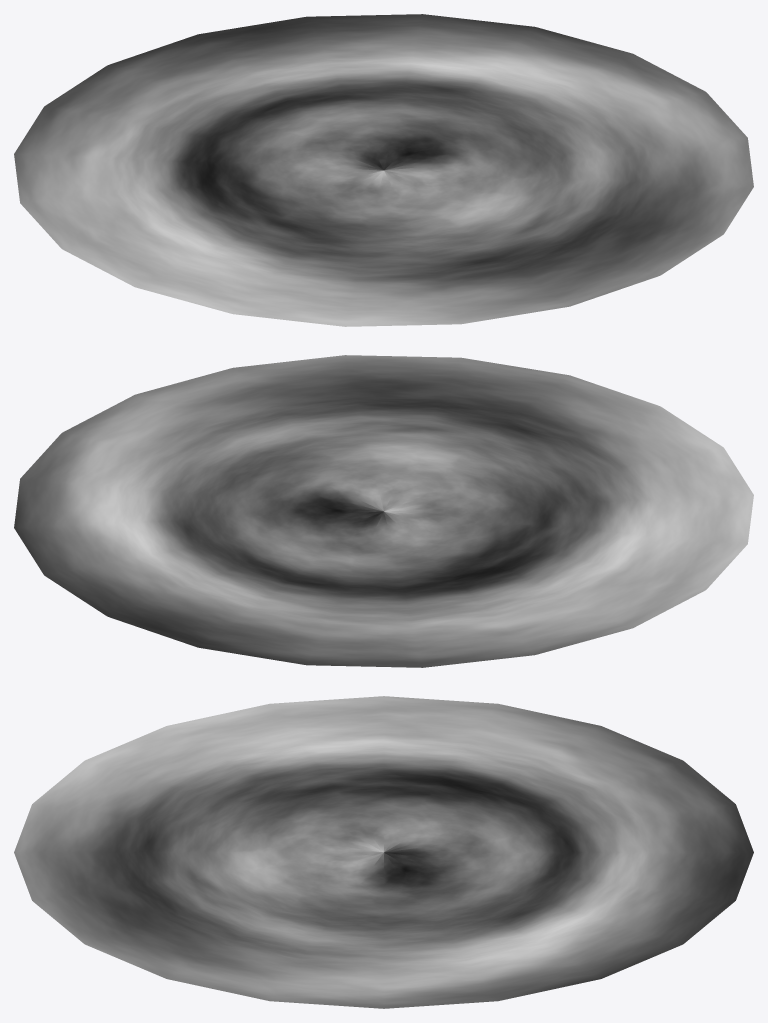
File: ShroomGroundExplosion.fbx
3 renders of one model, top to bottom at view 1: azimuth 30°, elevation 25°; view 2: azimuth 150°, elevation 25°; view 3: azimuth 270°, elevation 25°, orthographic.
Visible parts, largest first — view 1: pSphere1; view 2: pSphere1; view 3: pSphere1.
Boxes of the visible parts, box(x1,y1,x2,y2) form: pSphere1: box(14, 14, 753, 326); pSphere1: box(14, 355, 753, 667); pSphere1: box(14, 696, 753, 1008).
Size of the model in its own units: 2.83 by 1e-05 by 2.83.
